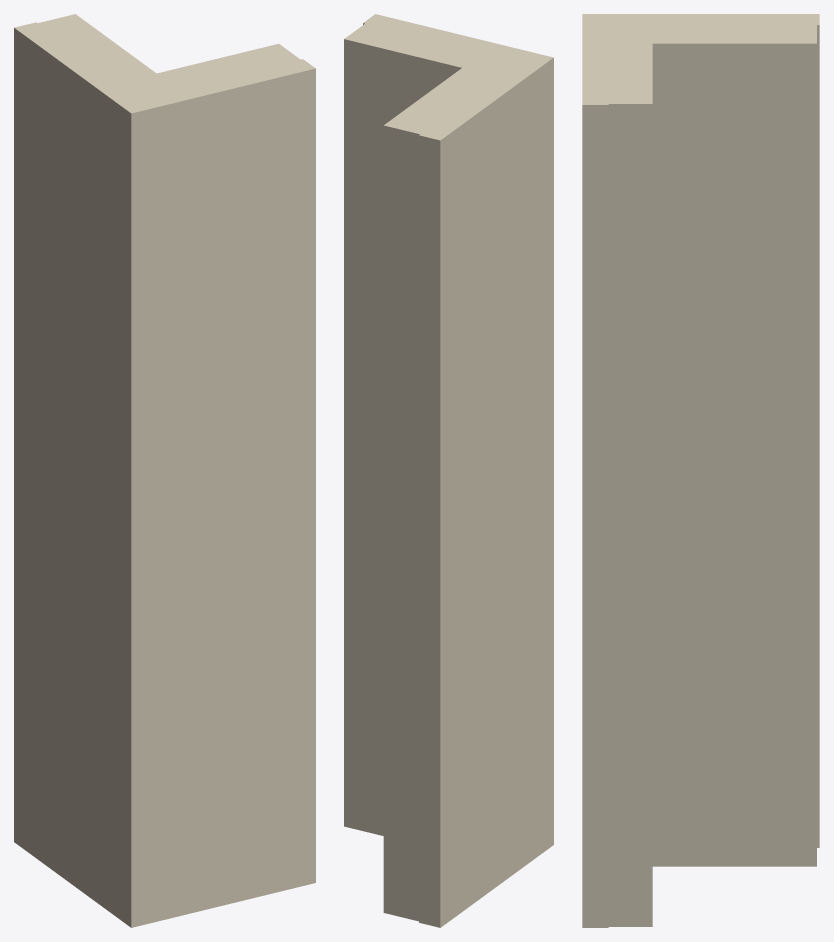
The picture shows the model from 3 angles, left to right: view 1: azimuth 30°, elevation 25°; view 2: azimuth 150°, elevation 25°; view 3: azimuth 270°, elevation 25°; orthographic projection. The views are drawn at different scales.
Parts seen in each view (by area): view 1: A-GF-WALL-003; view 2: A-GF-WALL-003; view 3: A-GF-WALL-003.
Boxes of the visible parts, x1,y1,x2,y2 form: A-GF-WALL-003: (14, 14, 315, 927); A-GF-WALL-003: (344, 14, 553, 927); A-GF-WALL-003: (582, 14, 819, 927).
Bounding box in the file's own units: 0.645 × 2.72 × 0.71.
